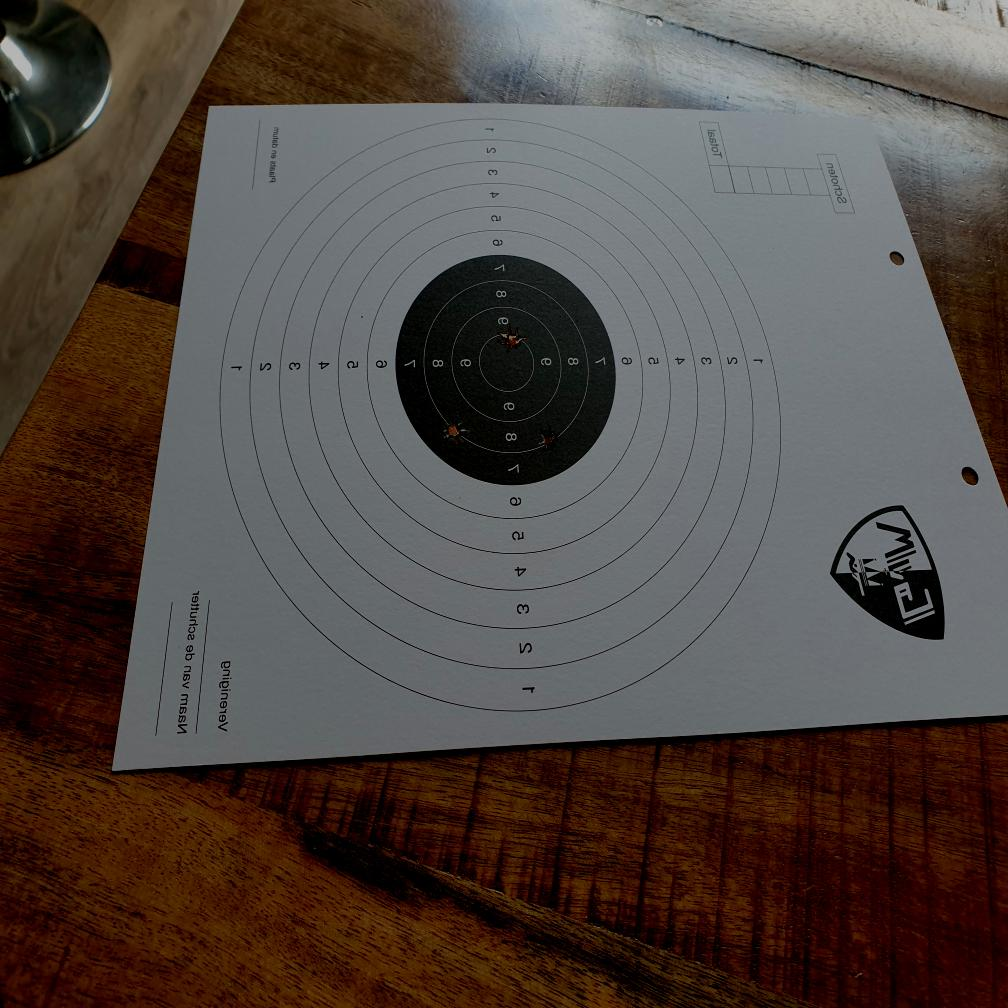10: (496, 323, 530, 353)
8: (441, 419, 468, 445), (536, 426, 560, 452)
Target: (218, 112, 784, 714)
black_contour: (395, 254, 616, 485)
